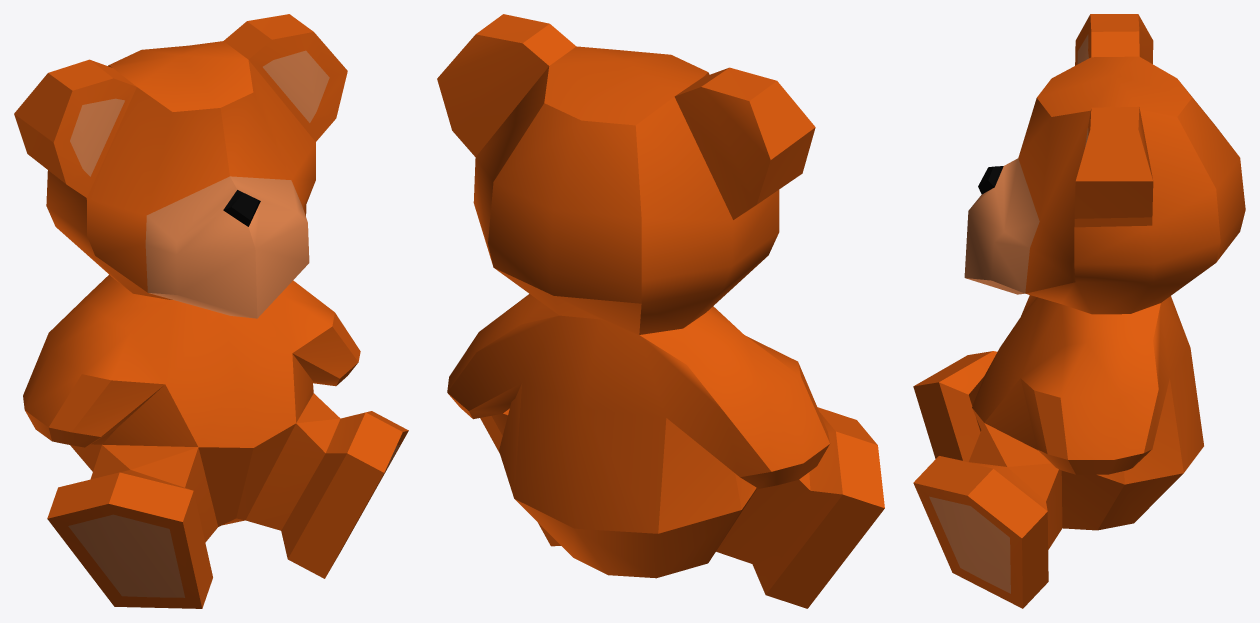
File: Teddy_bear.FBX
The picture shows the model from 3 angles, left to right: view 1: azimuth 30°, elevation 25°; view 2: azimuth 150°, elevation 25°; view 3: azimuth 270°, elevation 25°; orthographic projection. The views are drawn at different scales.
Parts seen in each view (by area): view 1: Sphere001; view 2: Sphere001; view 3: Sphere001.
Part boxes in pixels (<box>): Sphere001: <box>14,14,408,608</box>; Sphere001: <box>437,14,884,608</box>; Sphere001: <box>913,14,1245,608</box>.
Size of the model in its own units: 47.36 by 61.98 by 38.45.
